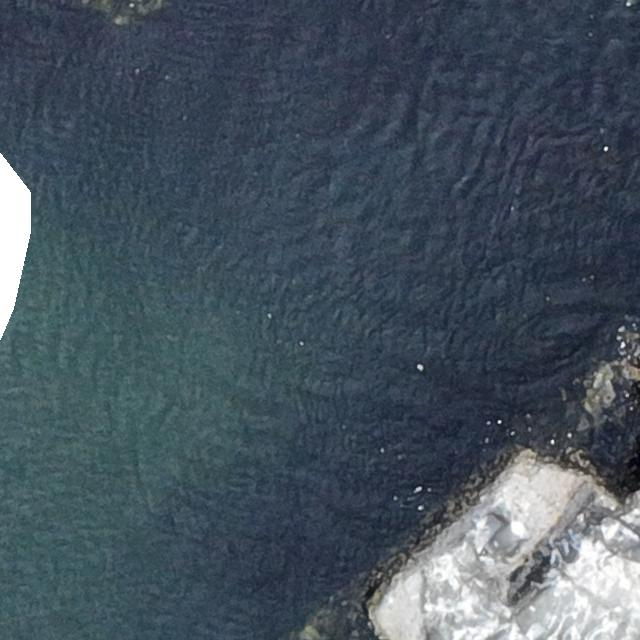umineko: (485, 520, 526, 558)
